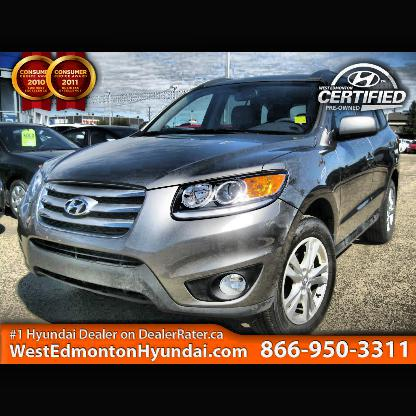Hyundai Santa Fe SUV 2012: (17, 71, 402, 338)
